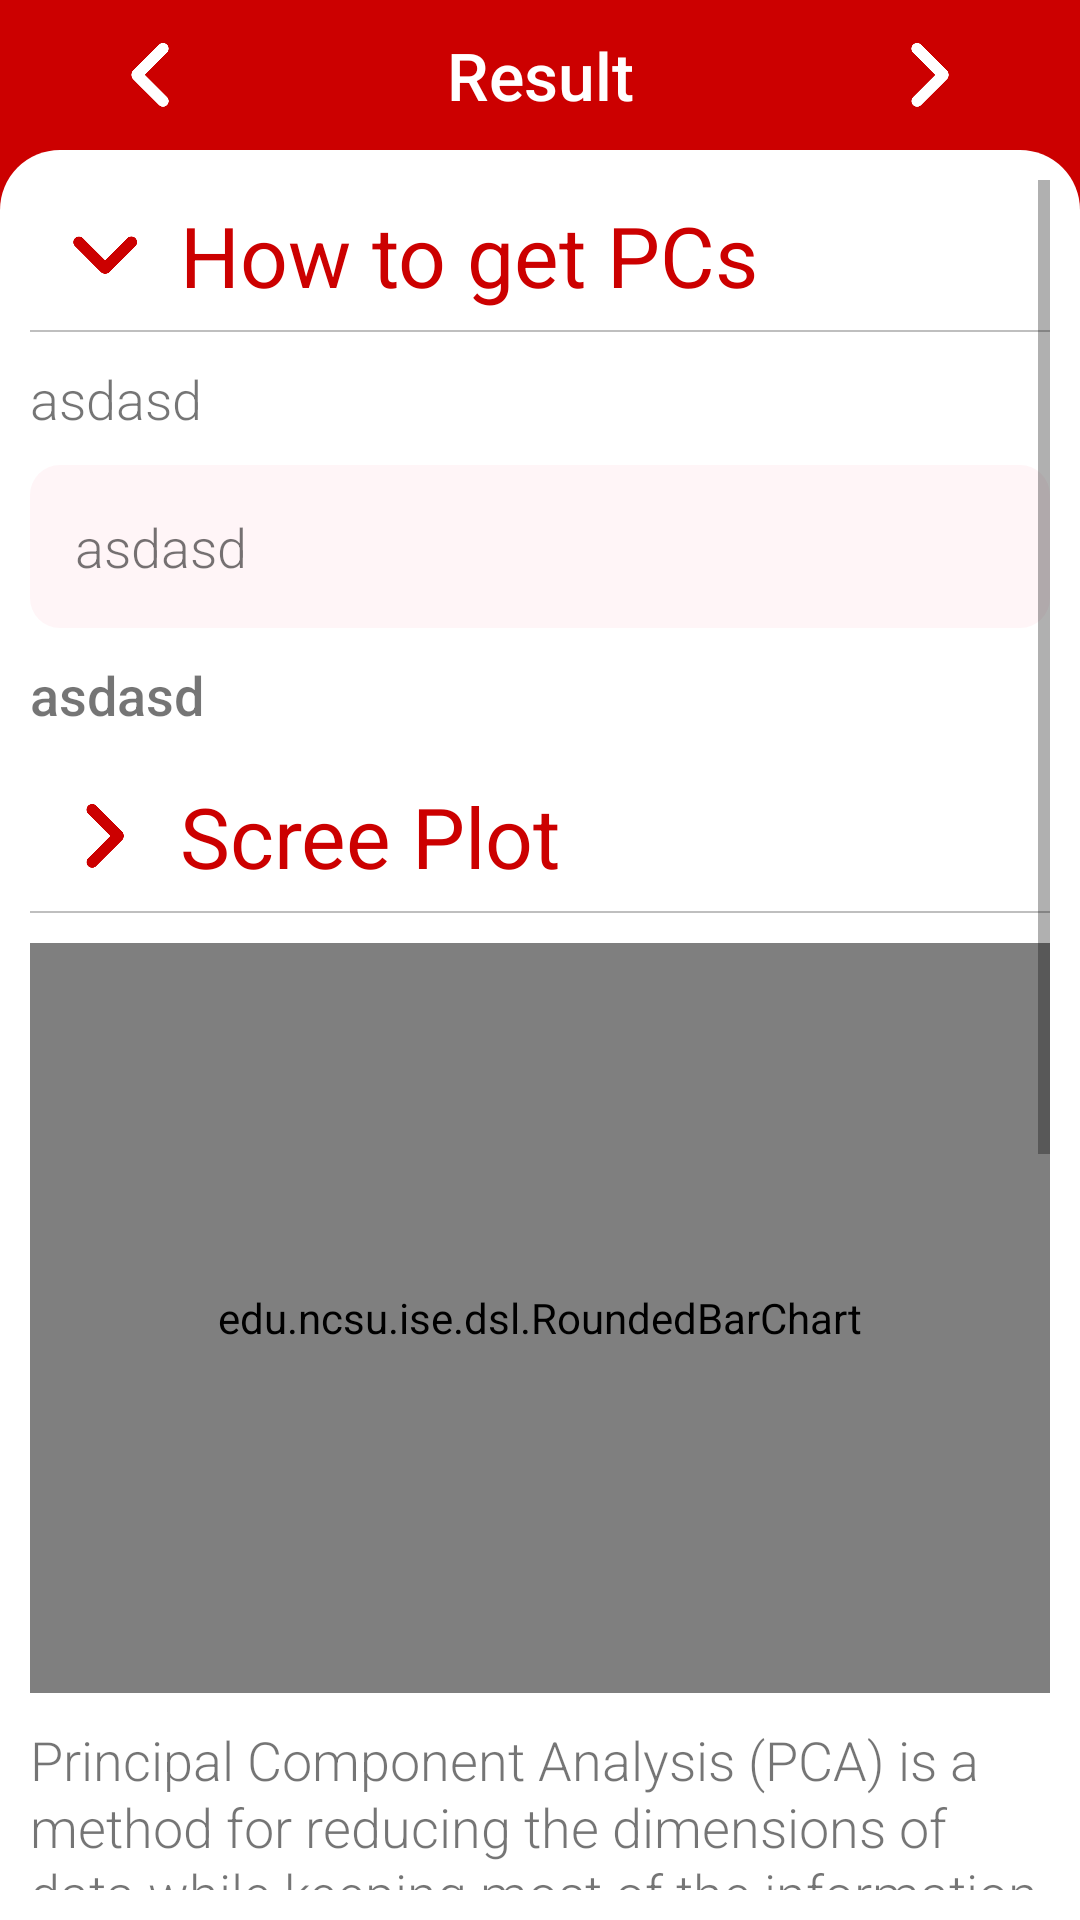

Icons on this 1080 × 1920 Android screen, each with its box as (left=x1, top=y1, right=x2, bottom=y2):
top bar back: (left=131, top=43, right=169, bottom=107)
top bar next: (left=911, top=43, right=949, bottom=107)
